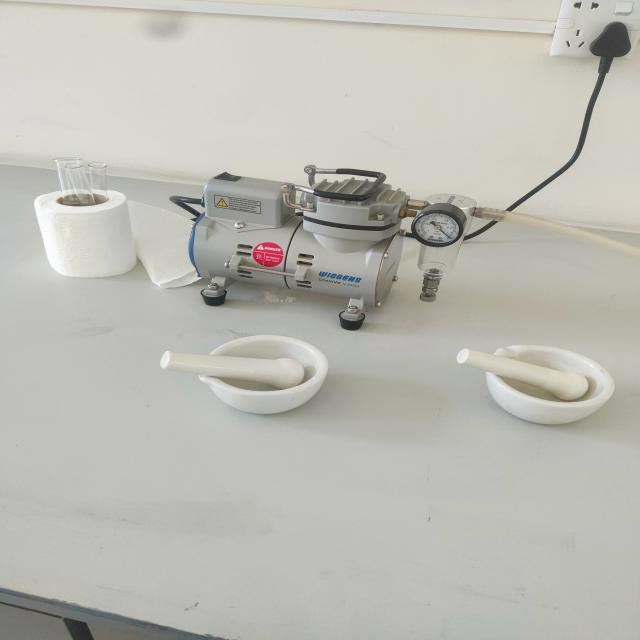Porcelain_Mortar Pestle: (156, 296, 355, 438), (446, 311, 640, 451)
